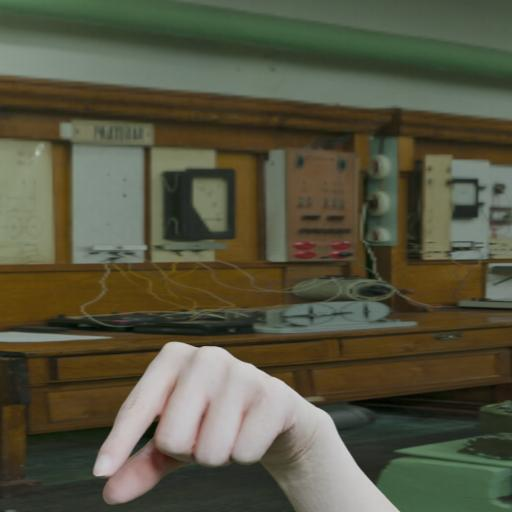Q: (85, 300, 338, 512)
